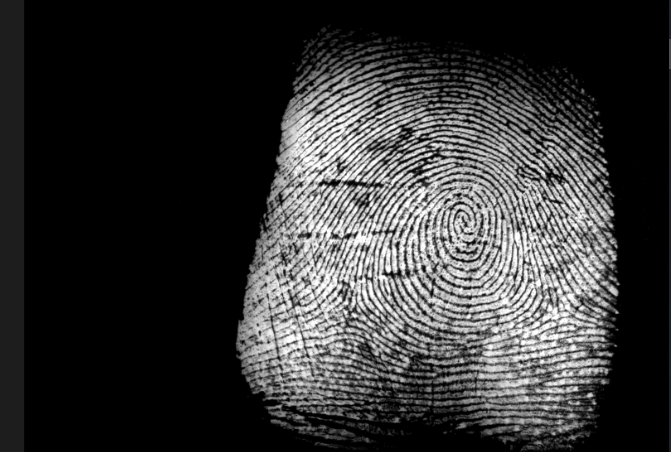nucelo: (447, 196, 488, 247)
verticilo: (547, 292, 576, 321), (344, 295, 361, 321)
